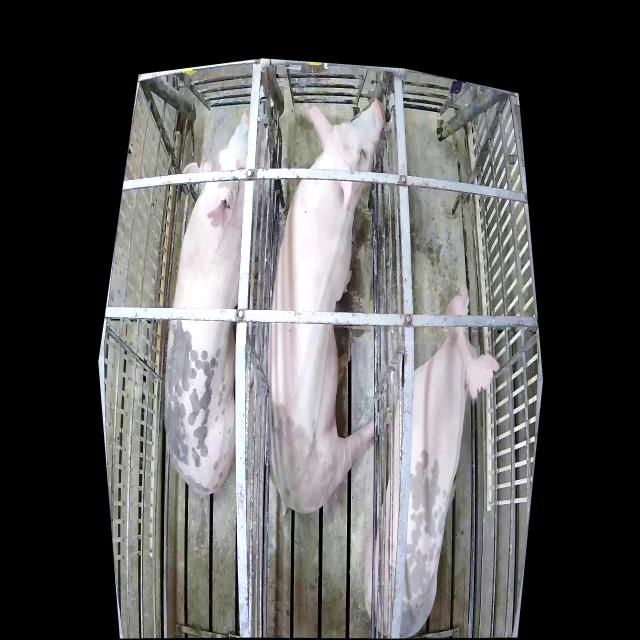pig: (267, 101, 384, 516), (365, 283, 501, 639), (165, 110, 257, 493)
